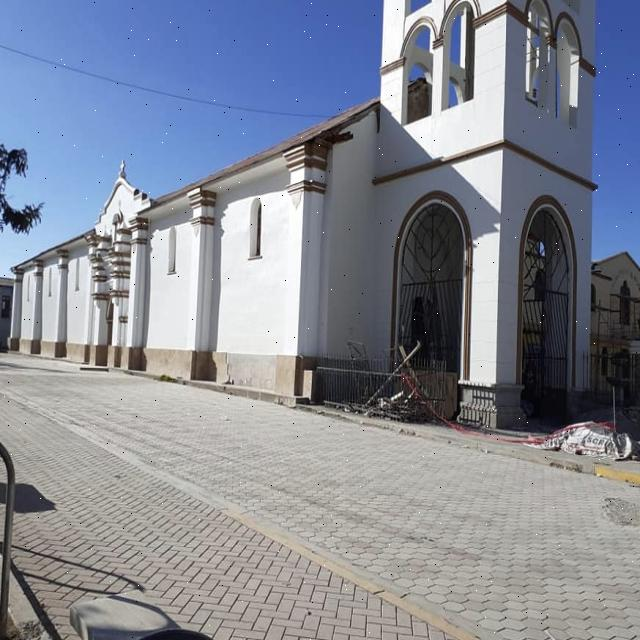CAMPANARIO: (380, 0, 606, 184)
colonial-architecture-: (0, 0, 617, 451)
